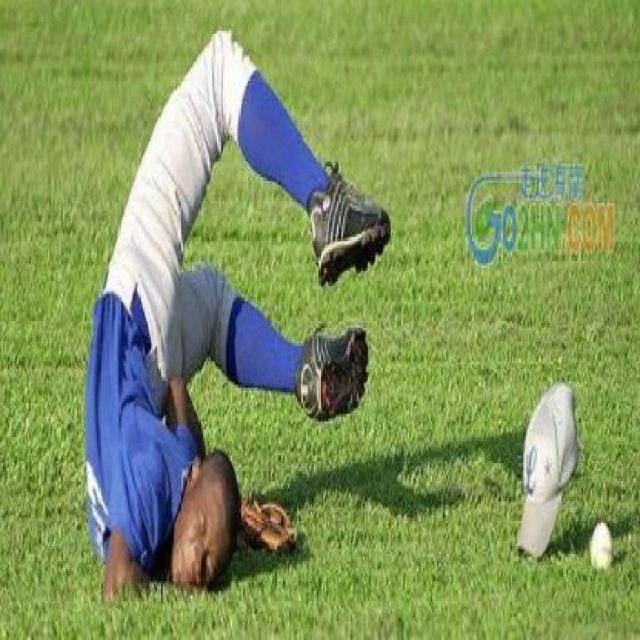fall: (55, 21, 383, 601)
